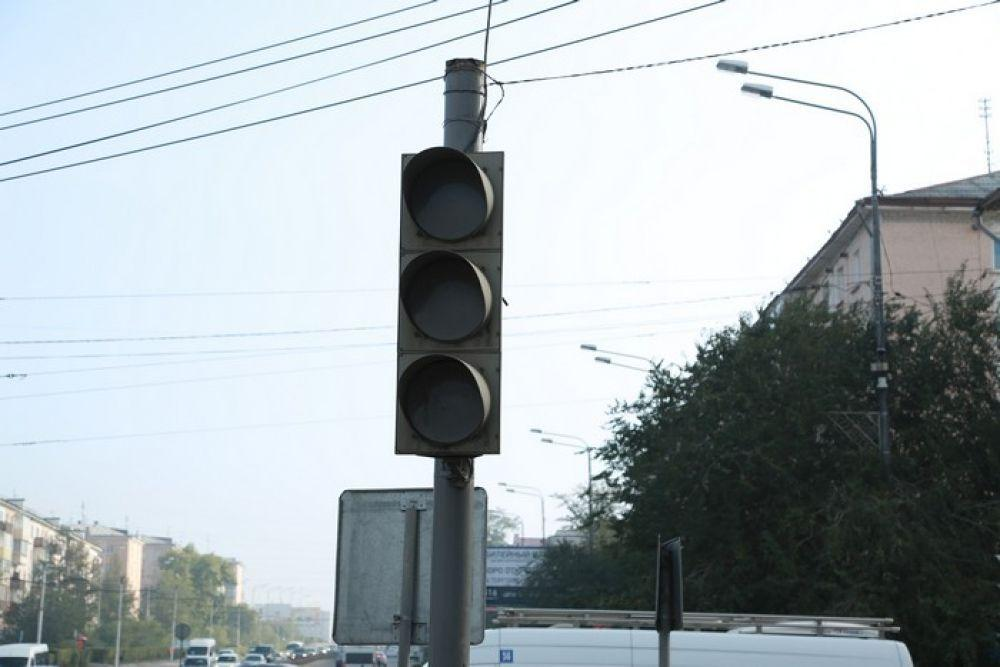off traffic light: (395, 147, 503, 457)
